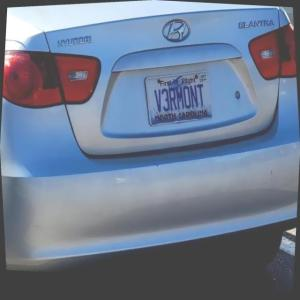Plate: (144, 69, 214, 126)
